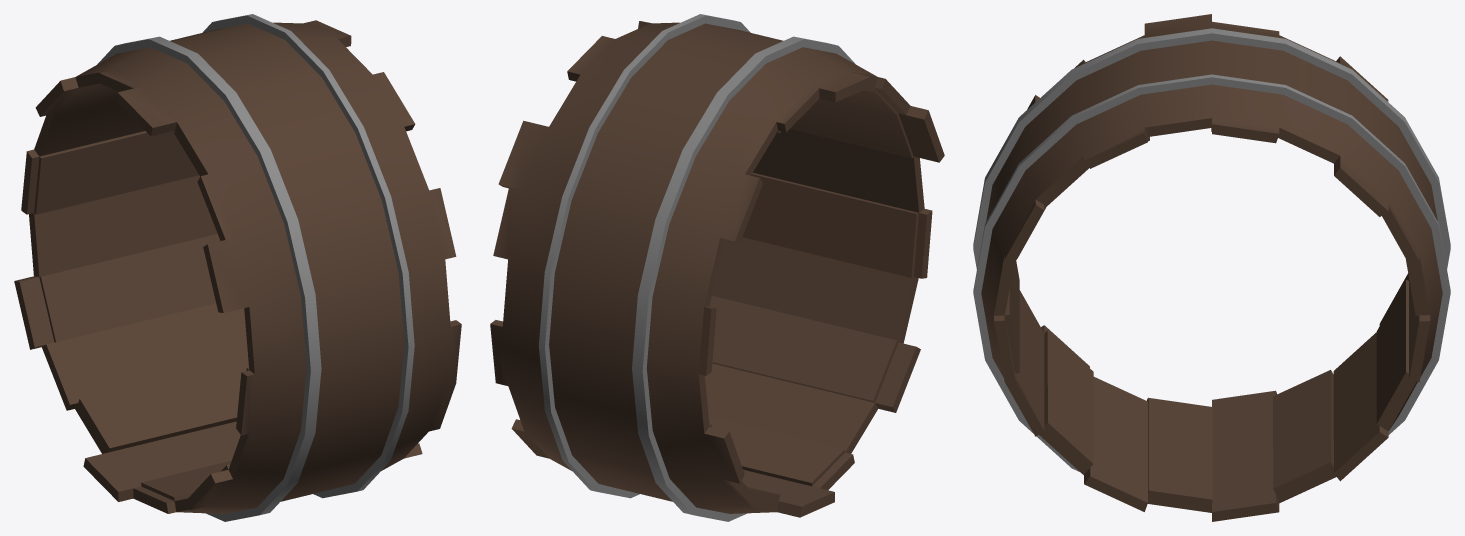
The model's file is wheel for tim2.fbx.
3 renders of one model, left to right at view 1: azimuth 30°, elevation 25°; view 2: azimuth 150°, elevation 25°; view 3: azimuth 270°, elevation 25°, orthographic. The views are drawn at different scales.
Visible parts, largest first — view 1: polySurface177; view 2: polySurface177; view 3: polySurface177.
Boxes of the visible parts, bbox=[...] form: polySurface177: bbox=[14, 14, 461, 521]; polySurface177: bbox=[490, 14, 944, 521]; polySurface177: bbox=[973, 14, 1450, 521].
Bounding box in the file's own units: 3.62 × 6.28 × 6.28.
